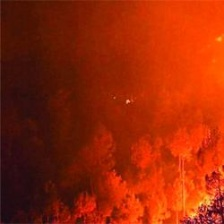fire: (183, 186, 224, 224)
